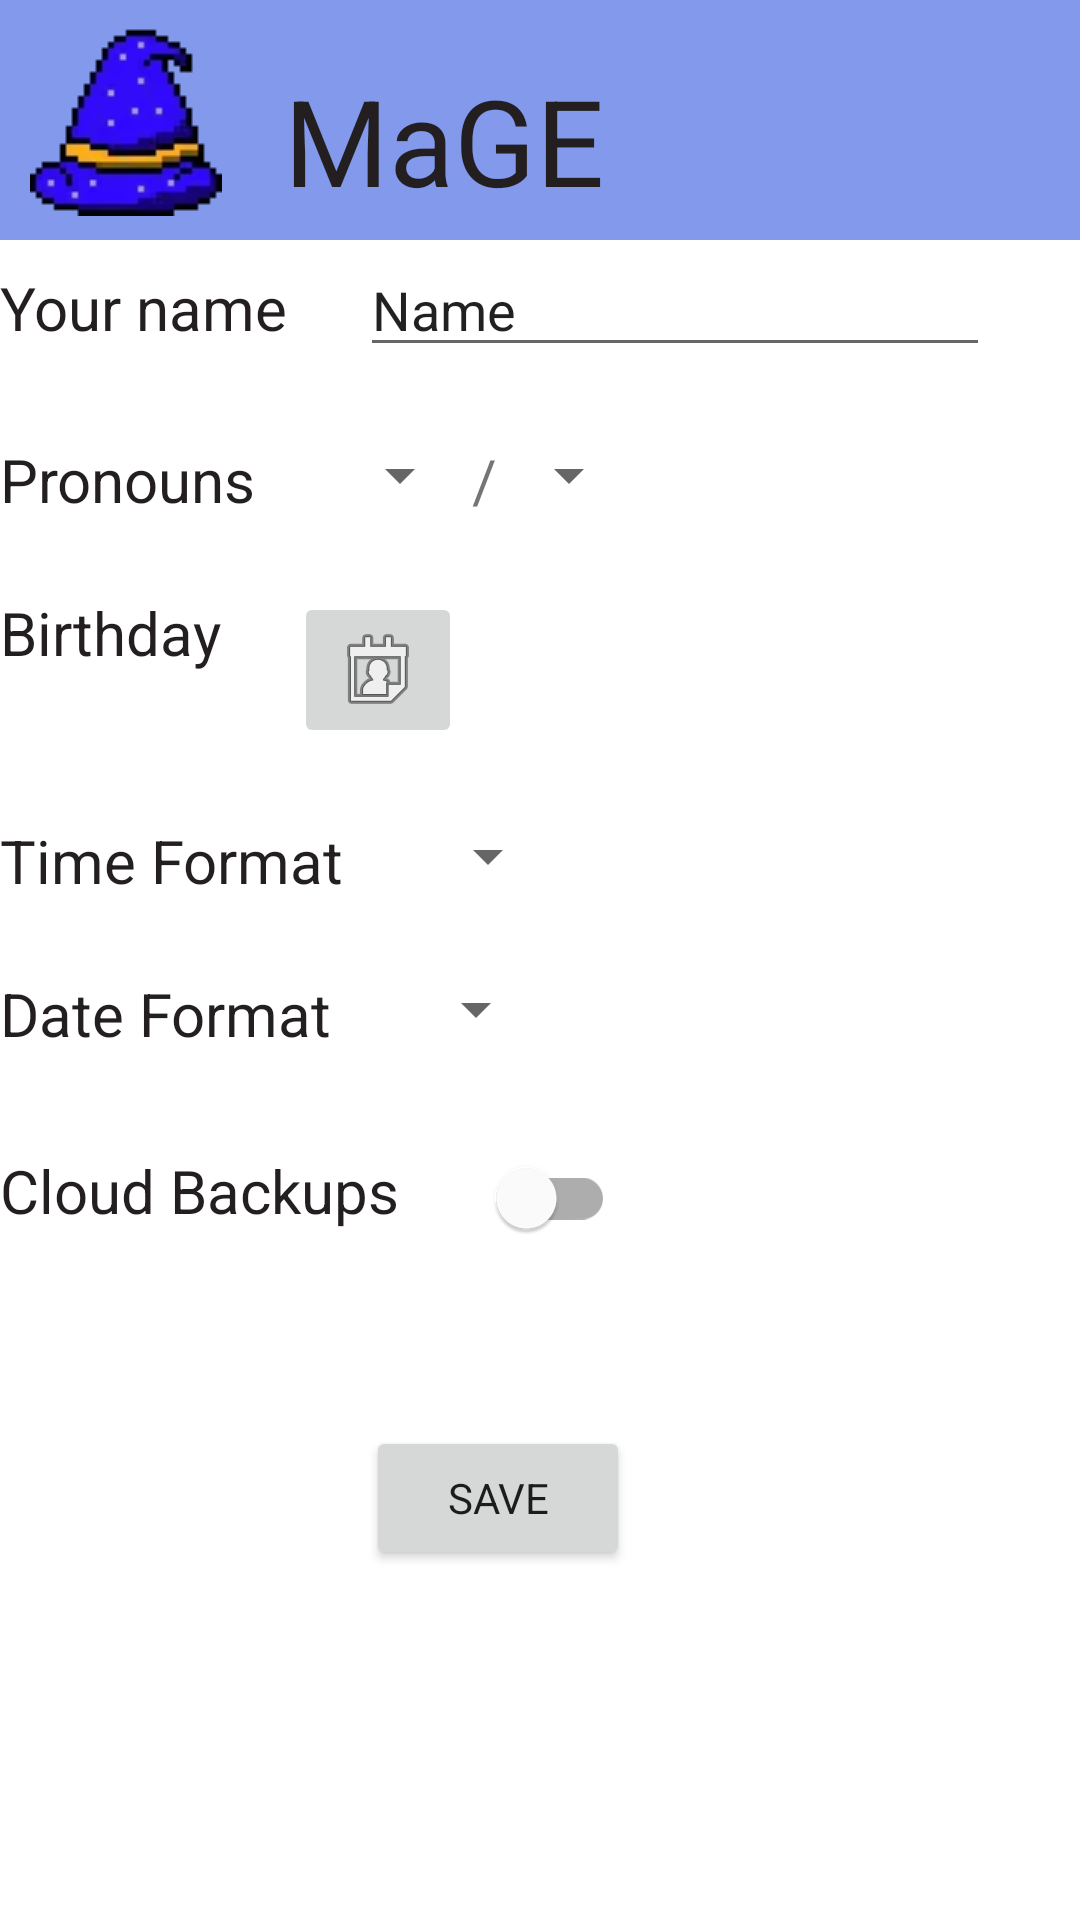

Locate icon controls on the screen. Image size 1080 x 1920, boxes as (x1, y1, x2, y2).
calendar: (306, 610, 450, 730)
